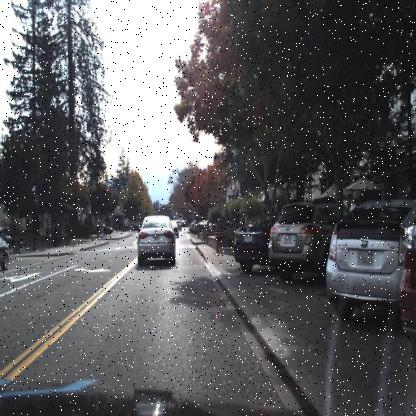car: (323, 193, 416, 320), (327, 206, 403, 311), (262, 199, 339, 285), (130, 207, 177, 269), (232, 213, 268, 274)
